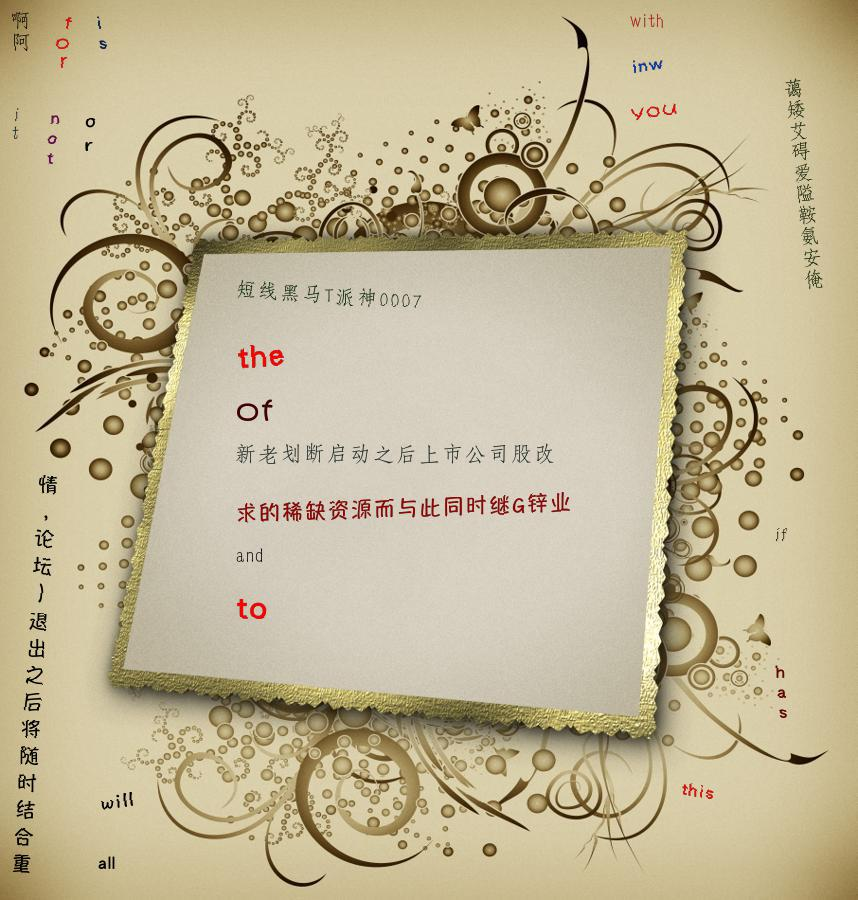h_text: (235, 485, 572, 524), (235, 443, 555, 464), (235, 278, 423, 312), (235, 333, 286, 369), (629, 95, 678, 123), (235, 390, 274, 422), (235, 585, 268, 620), (98, 784, 135, 810), (680, 776, 716, 800), (629, 50, 665, 74), (629, 11, 665, 29), (235, 545, 264, 564), (98, 851, 115, 869), (774, 525, 789, 543)
v_text: (10, 468, 60, 875), (782, 77, 826, 291), (53, 10, 73, 70), (44, 105, 62, 165), (10, 10, 32, 53), (774, 659, 789, 719), (83, 105, 98, 153), (94, 10, 108, 50), (10, 105, 23, 141)
